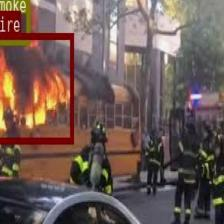fire: (0, 32, 73, 142)
smoke: (0, 0, 29, 43)
